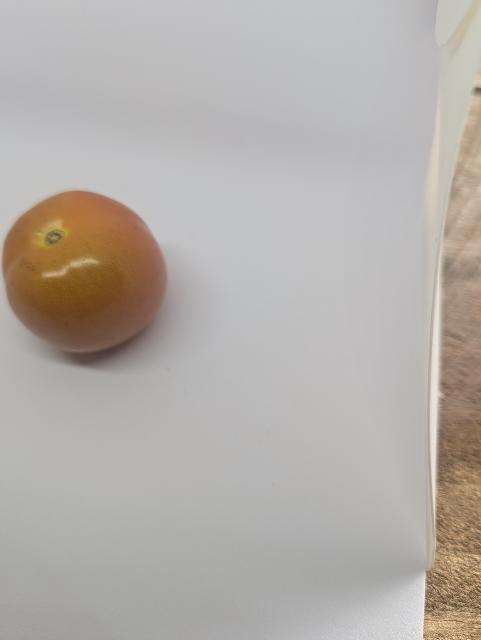turning: (2, 187, 173, 357)
